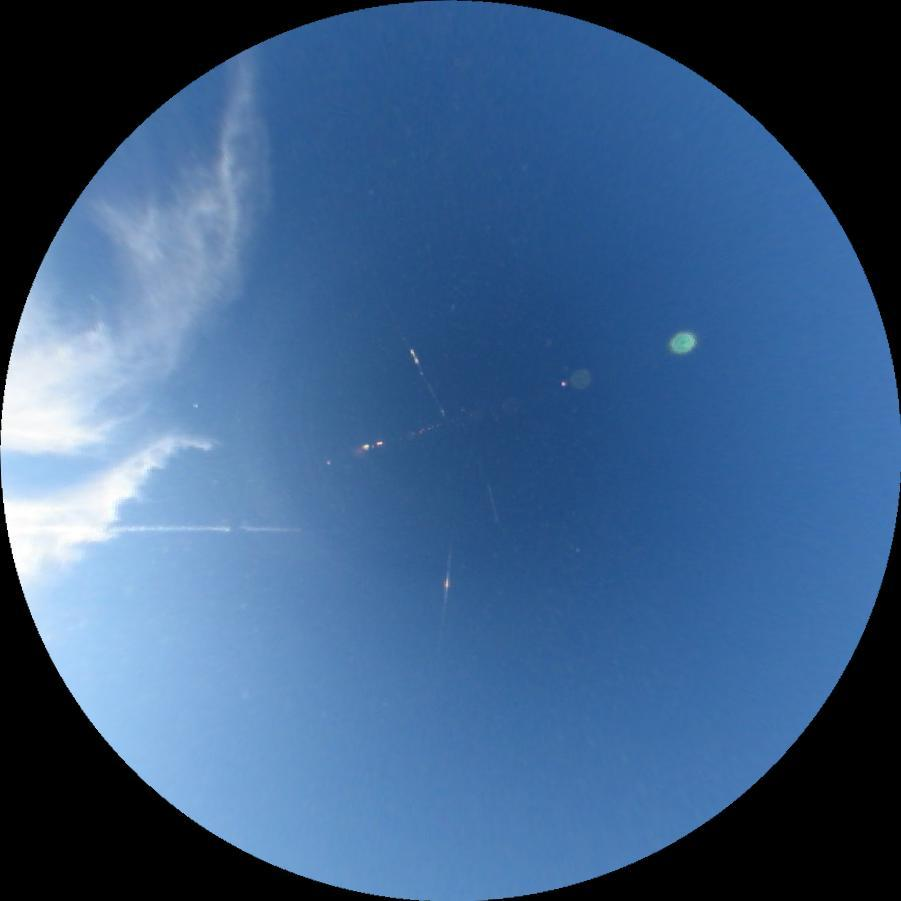parasite: (395, 327, 459, 439), (113, 524, 295, 535), (438, 537, 454, 632), (486, 484, 500, 523)
